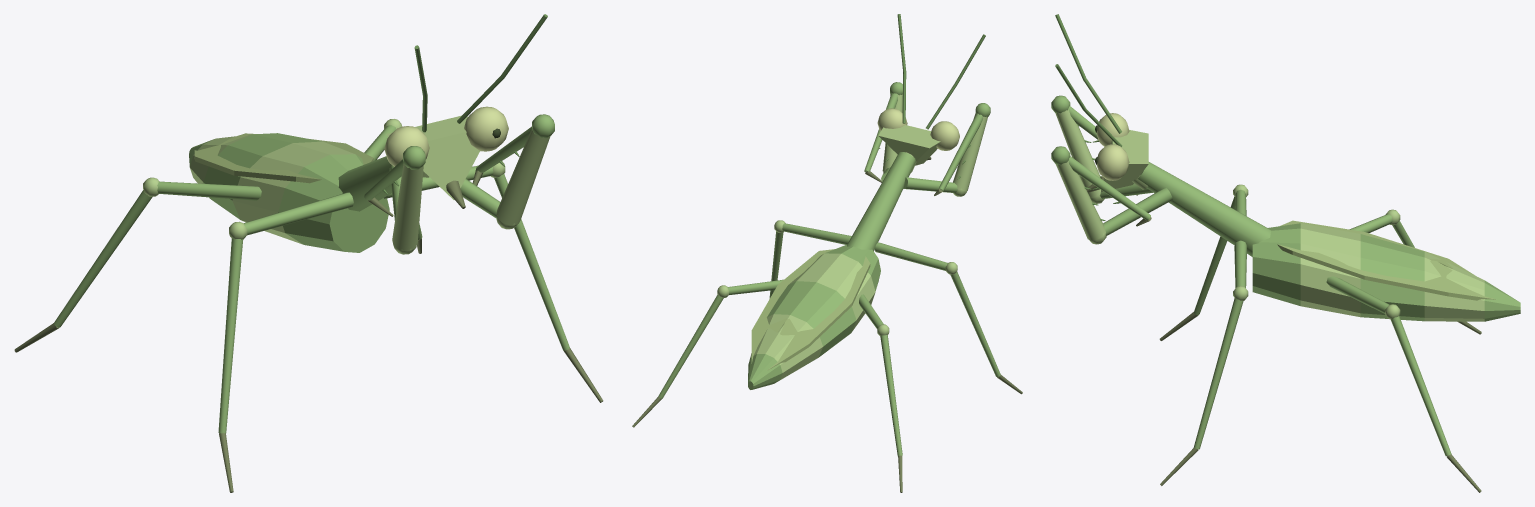
The model's file is praying_mantis.glb.
3 views of the same model, side by side, from view 1: azimuth 30°, elevation 25°; view 2: azimuth 150°, elevation 25°; view 3: azimuth 270°, elevation 25° (orthographic). The views are drawn at different scales.
Visible parts, largest first — view 1: Mantis_Segmented_Abdomen, Mantis_Triangular_Head, Mantis_Thick_Raptorial_Femur_1, Mantis_Middle_Walking_Leg_Lower_-1, Mantis_Thick_Raptorial_Femur_-1, Mantis_Rear_Walking_Leg_Lower_-1, Mantis_Middle_Walking_Leg_Upper_-1, Mantis_Slender_Long_Thorax, Mantis_Attached_Folded_Wing_-1, Mantis_Bulbous_Eye_1, Mantis_Middle_Walking_Leg_Lower_1, Mantis_Rear_Walking_Leg_Upper_-1 (+4 smaller); view 2: Mantis_Segmented_Abdomen, Mantis_Slender_Long_Thorax, Mantis_Attached_Folded_Wing_-1, Mantis_Triangular_Head, Mantis_Attached_Folded_Wing_1, Mantis_Thick_Raptorial_Femur_-1, Mantis_Rear_Walking_Leg_Lower_-1, Mantis_Rear_Walking_Leg_Lower_1, Mantis_Middle_Walking_Leg_Lower_-1, Mantis_Middle_Walking_Leg_Upper_-1, Mantis_Folded_Raptorial_Tibia_-1, Mantis_Middle_Walking_Leg_Upper_1 (+4 smaller); view 3: Mantis_Segmented_Abdomen, Mantis_Slender_Long_Thorax, Mantis_Attached_Folded_Wing_1, Mantis_Thick_Raptorial_Femur_1, Mantis_Middle_Walking_Leg_Lower_1, Mantis_Triangular_Head, Mantis_Rear_Walking_Leg_Lower_1, Mantis_Thick_Raptorial_Femur_-1, Mantis_Raptorial_Coxa_1, Mantis_Bulbous_Eye_1, Mantis_Folded_Raptorial_Tibia_1, Mantis_Rear_Walking_Leg_Upper_1 (+5 smaller).
Part boxes in pixels (x1,y1,x2,y2): Mantis_Segmented_Abdomen: (189,133,389,252); Mantis_Triangular_Head: (386,115,479,199); Mantis_Thick_Raptorial_Femur_1: (496,128,549,225); Mantis_Middle_Walking_Leg_Lower_-1: (218,238,243,433); Mantis_Thick_Raptorial_Femur_-1: (392,163,423,251); Mantis_Rear_Walking_Leg_Lower_-1: (54,190,152,327); Mantis_Middle_Walking_Leg_Upper_-1: (244,192,353,235); Mantis_Slender_Long_Thorax: (338,156,391,211); Mantis_Attached_Folded_Wing_-1: (194,133,321,183); Mantis_Bulbous_Eye_1: (464,106,508,151); Mantis_Middle_Walking_Leg_Lower_1: (494,174,569,350); Mantis_Rear_Walking_Leg_Upper_-1: (157,181,261,200); Mantis_Segmented_Abdomen: (748,244,880,389); Mantis_Slender_Long_Thorax: (847,152,915,251); Mantis_Attached_Folded_Wing_-1: (767,256,870,370); Mantis_Triangular_Head: (878,125,940,165); Mantis_Attached_Folded_Wing_1: (751,249,834,363); Mantis_Thick_Raptorial_Femur_-1: (953,113,987,191); Mantis_Rear_Walking_Leg_Lower_-1: (880,335,902,455); Mantis_Rear_Walking_Leg_Lower_1: (658,294,723,398); Mantis_Middle_Walking_Leg_Lower_-1: (950,272,1000,376); Mantis_Middle_Walking_Leg_Upper_-1: (875,242,947,270); Mantis_Folded_Raptorial_Tibia_-1: (938,113,982,191); Mantis_Middle_Walking_Leg_Upper_1: (782,223,851,244); Mantis_Segmented_Abdomen: (1252,223,1520,321); Mantis_Slender_Long_Thorax: (1138,162,1270,256); Mantis_Attached_Folded_Wing_1: (1277,244,1496,300); Mantis_Thick_Raptorial_Femur_1: (1056,161,1105,240); Mantis_Middle_Walking_Leg_Lower_1: (1193,298,1243,449); Mantis_Triangular_Head: (1101,130,1148,191); Mantis_Rear_Walking_Leg_Lower_1: (1391,316,1451,456); Mantis_Thick_Raptorial_Femur_-1: (1055,107,1100,198); Mantis_Raptorial_Coxa_1: (1103,187,1172,235); Mantis_Bulbous_Eye_1: (1096,144,1129,180); Mantis_Folded_Raptorial_Tibia_1: (1068,156,1150,220); Mantis_Rear_Walking_Leg_Upper_1: (1326,276,1389,313).
Bounding box in the file's own units: 0.0947 × 0.1033 × 0.1174.
